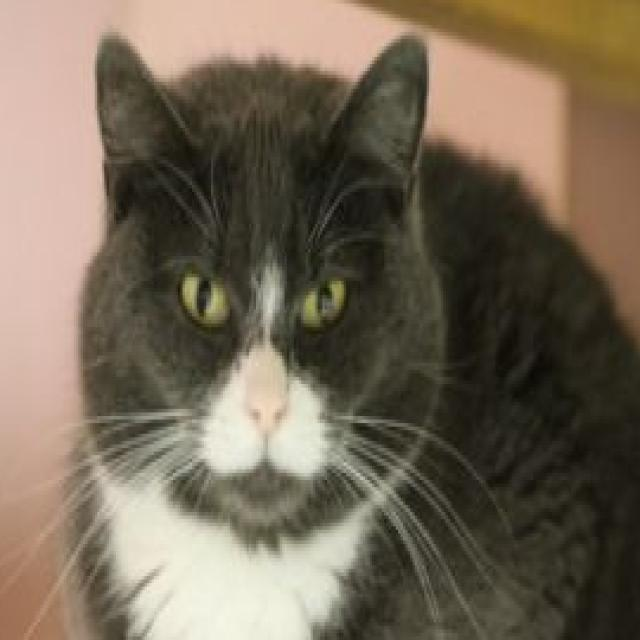British Shorthair: (57, 21, 640, 640)
